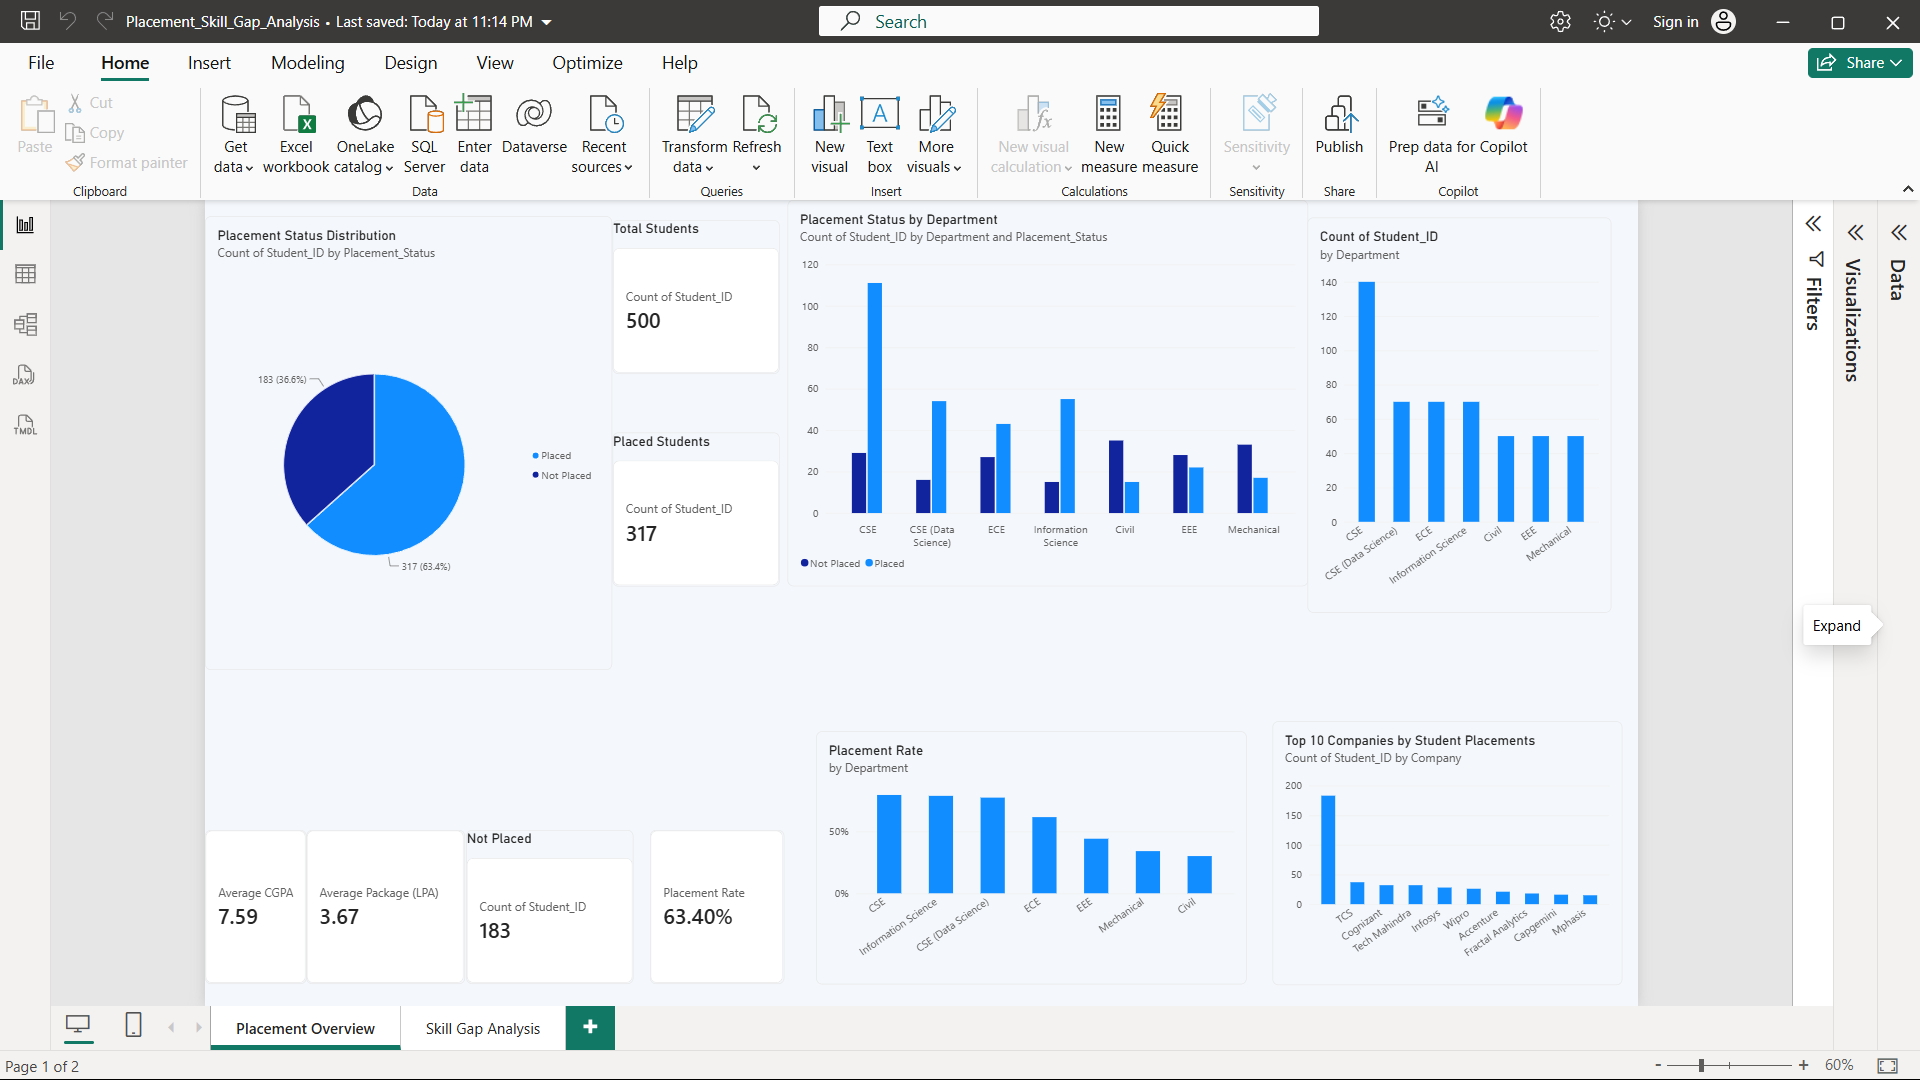

The dashboard page shown, as its layout file describes it:
{"tool":"powerbi","page":{"name":"Placement Overview","canvas":[1920,1080],"ordinal":0},"visuals":[{"type":"pieChart","title":"Placement Status Distribution","fields":{"Category":["students.Placement_Status"],"Y":["CountNonNull(students.Student_ID)"]},"box":[0,22.2,545.2,607.8],"z":0},{"type":"cardVisual","title":"Total Students","fields":{"Data":["CountNonNull(students.Student_ID)"]},"box":[545.2,26.3,224,206],"z":1000},{"type":"clusteredColumnChart","title":"Placement Status by Department","fields":{"Category":["students.Department"],"Series":["students.Placement_Status"],"Y":["CountNonNull(students.Student_ID)"]},"box":[780,0,697.8,517.7],"z":2000},{"type":"cardVisual","title":"Placed Students","fields":{"Data":["CountNonNull(students.Student_ID)"]},"box":[545.2,311,224,206],"z":3000},{"type":"cardVisual","title":"Not Placed","fields":{"Data":["CountNonNull(students.Student_ID)"]},"box":[349.8,844.7,224,206],"z":4000},{"type":"cardVisual","fields":{"Data":["job_market.Placement Rate"]},"box":[596.4,844.7,179.7,206.5],"z":5000},{"type":"columnChart","fields":{"Category":["students.Department"],"Y":["CountNonNull(students.Student_ID)"]},"box":[1477.9,22.7,407.5,529.9],"z":6000},{"type":"cardVisual","fields":{"Data":["job_market.Average Package"]},"box":[136.4,844.7,212.7,206.5],"z":7000},{"type":"cardVisual","fields":{"Data":["job_market.Average CGPA"]},"box":[0,844.7,136.3,206.5],"z":8000},{"type":"columnChart","fields":{"Category":["students.Department"],"Y":["job_market.Placement Rate"]},"box":[818.5,711.8,577.2,339.3],"z":9000},{"type":"columnChart","title":"Top 10 Companies by Student Placements","fields":{"Category":["students.Company"],"Y":["CountNonNull(students.Student_ID)"]},"box":[1430.6,697.8,468.7,353.3],"z":10000}]}

Visuals, with their boxes on the page's 1920x1080 design canvas (x1, y1, x2, y2). These are canvas units, not pixel positions in the 1920x1080 screenshot, which may show the page scaled, cropped or inside an application window:
"Placement Status Distribution" pieChart: bbox=(0, 22, 545, 630)
"Total Students" cardVisual: bbox=(545, 26, 769, 232)
"Placement Status by Department" clusteredColumnChart: bbox=(780, 0, 1478, 518)
"Placed Students" cardVisual: bbox=(545, 311, 769, 517)
"Not Placed" cardVisual: bbox=(350, 845, 574, 1051)
cardVisual - job_market.Placement Rate: bbox=(596, 845, 776, 1051)
columnChart - students.Department x CountNonNull(students.Student_ID): bbox=(1478, 23, 1885, 553)
cardVisual - job_market.Average Package: bbox=(136, 845, 349, 1051)
cardVisual - job_market.Average CGPA: bbox=(0, 845, 136, 1051)
columnChart - students.Department x job_market.Placement Rate: bbox=(818, 712, 1396, 1051)
"Top 10 Companies by Student Placements" columnChart: bbox=(1431, 698, 1899, 1051)
